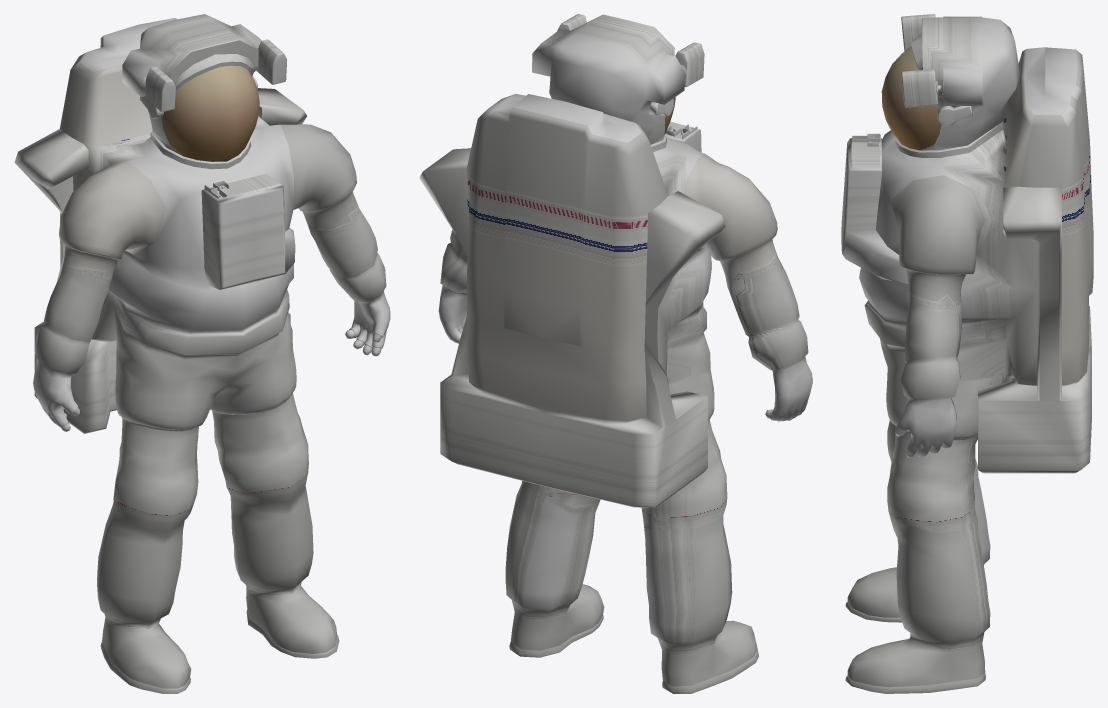
File: astronaut.glb
The picture shows the model from 3 angles, left to right: view 1: azimuth 30°, elevation 25°; view 2: azimuth 150°, elevation 25°; view 3: azimuth 270°, elevation 25°; orthographic projection. The views are drawn at different scales.
Visible parts, largest first — view 1: astronaut1; view 2: astronaut1; view 3: astronaut1.
Boxes of the visible parts, x1,y1,x2,y2 form: astronaut1: (14,14,390,693); astronaut1: (419,14,812,693); astronaut1: (841,14,1093,693).
Size of the model in its own units: 44.12 by 74.26 by 27.6.
Materials: 2 (2 with a texture image).
